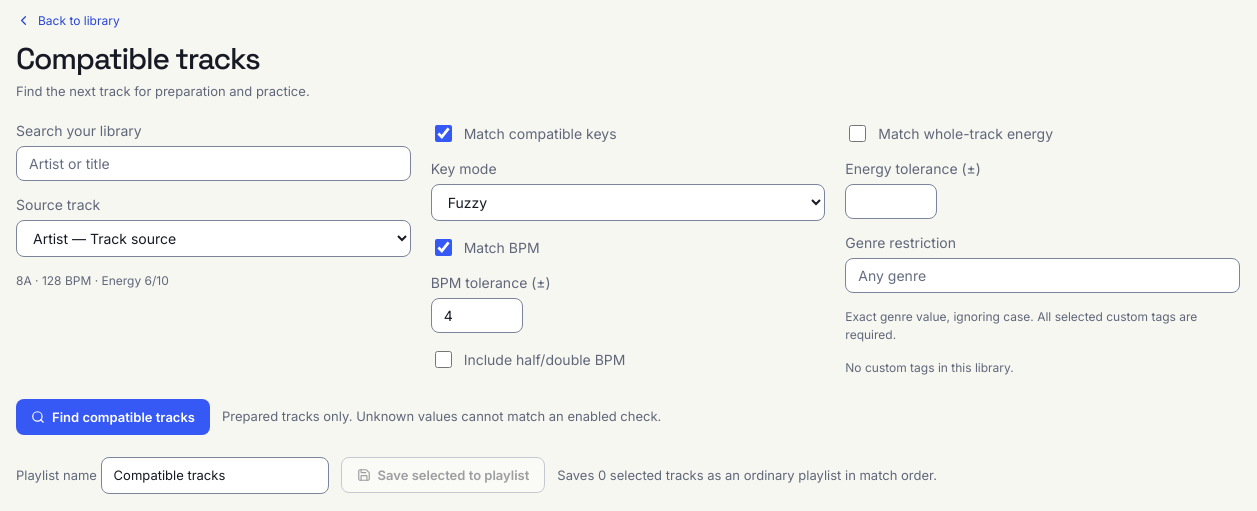
it: Compatible tracks › invalidates results and ignores late previews when controls change
Click the button "Find compatible tracks".
click(113, 416)  # box [16, 398, 210, 434]
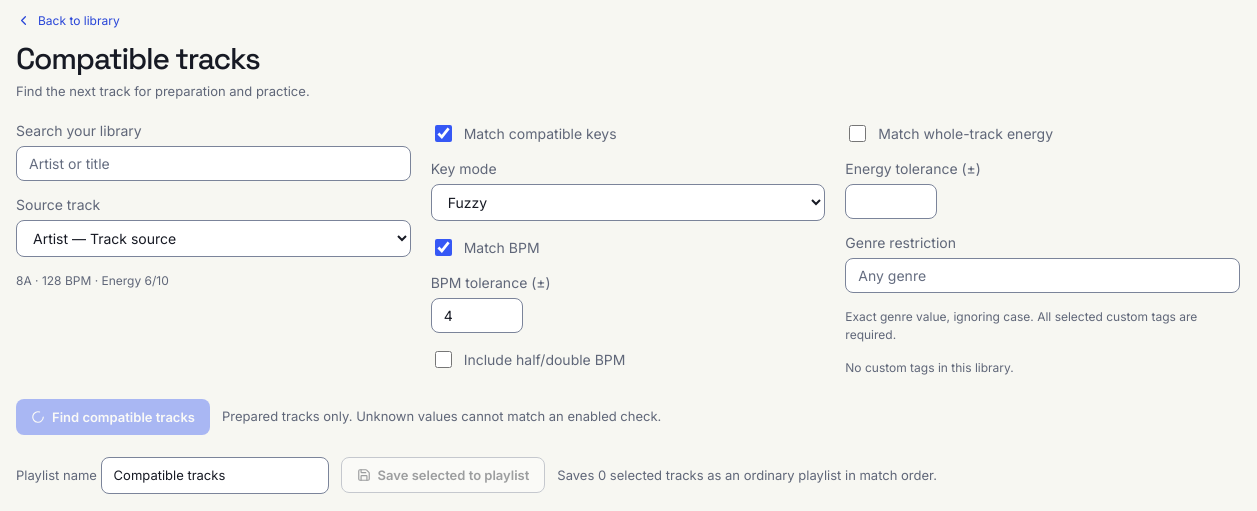
Replace the text in the number field labelled "BPM tolerance" with "2" at (477,315), box [431, 298, 523, 332]
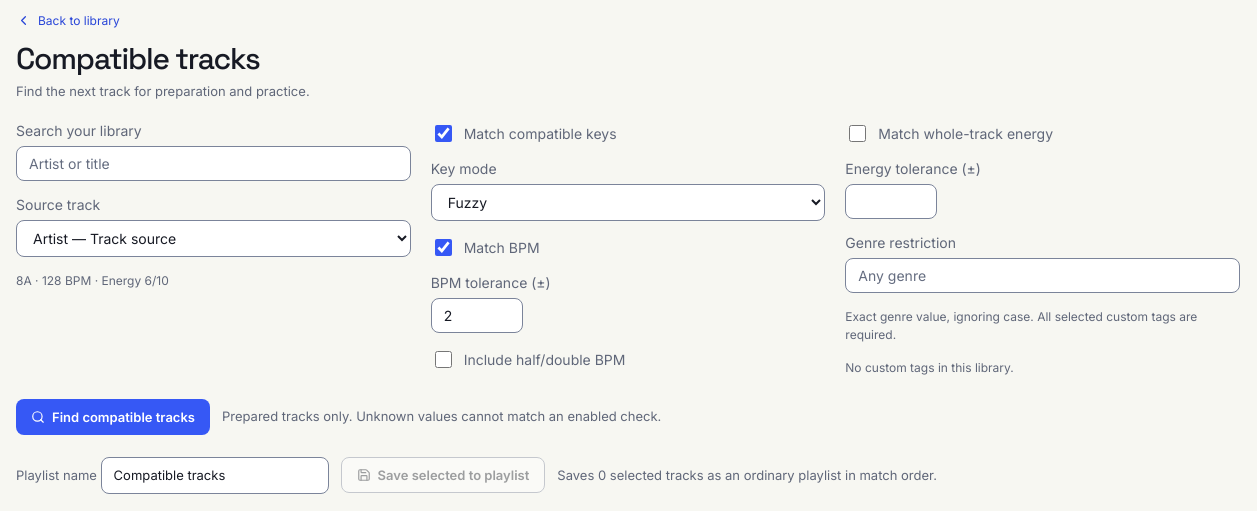
Check: the button "Save selected to playlist" is disabled, box [341, 457, 545, 493]
Check: the button "Find compatible tracks" is enabled, box [16, 398, 210, 434]
